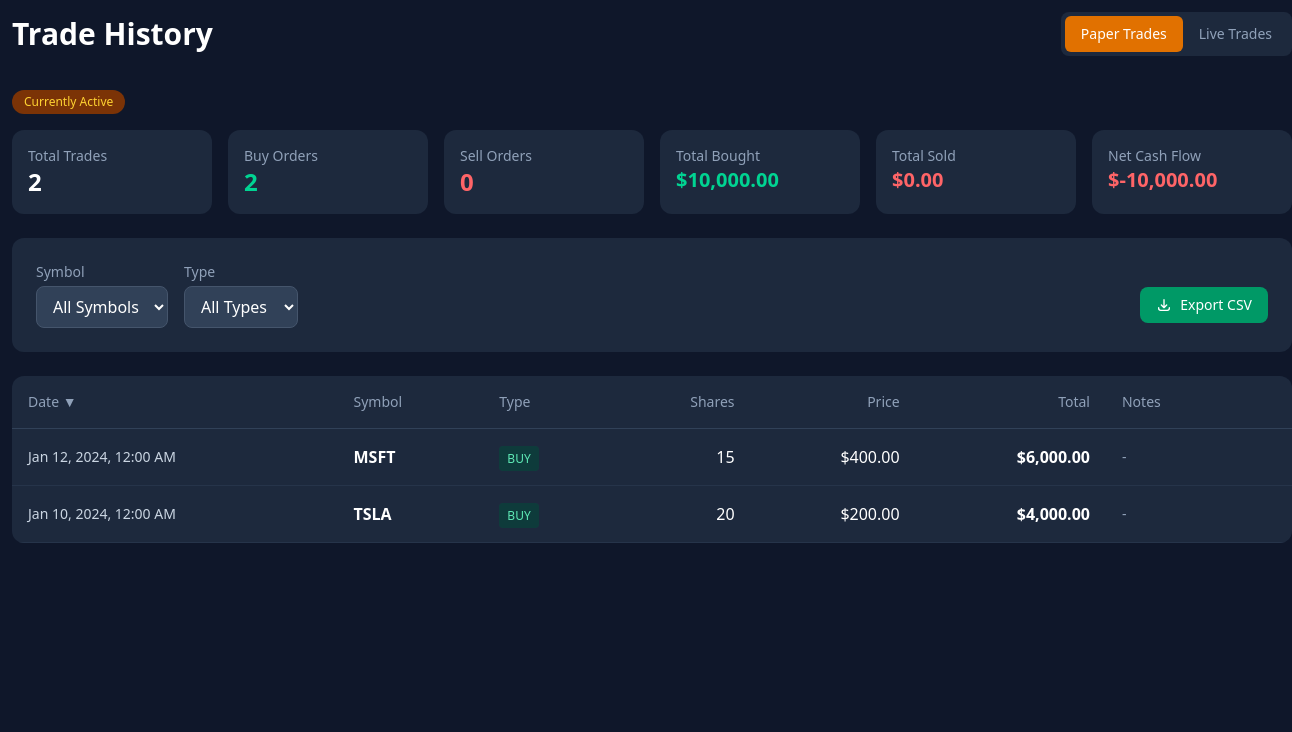
Test: TradeHistory › Empty states › should show live-specific empty message when no live trades
The image size is (1292, 732).
Note: Switch to live trades
Step 1. Click the button "Live Trades" → coordinates (1235, 34), box [1183,16,1288,52]
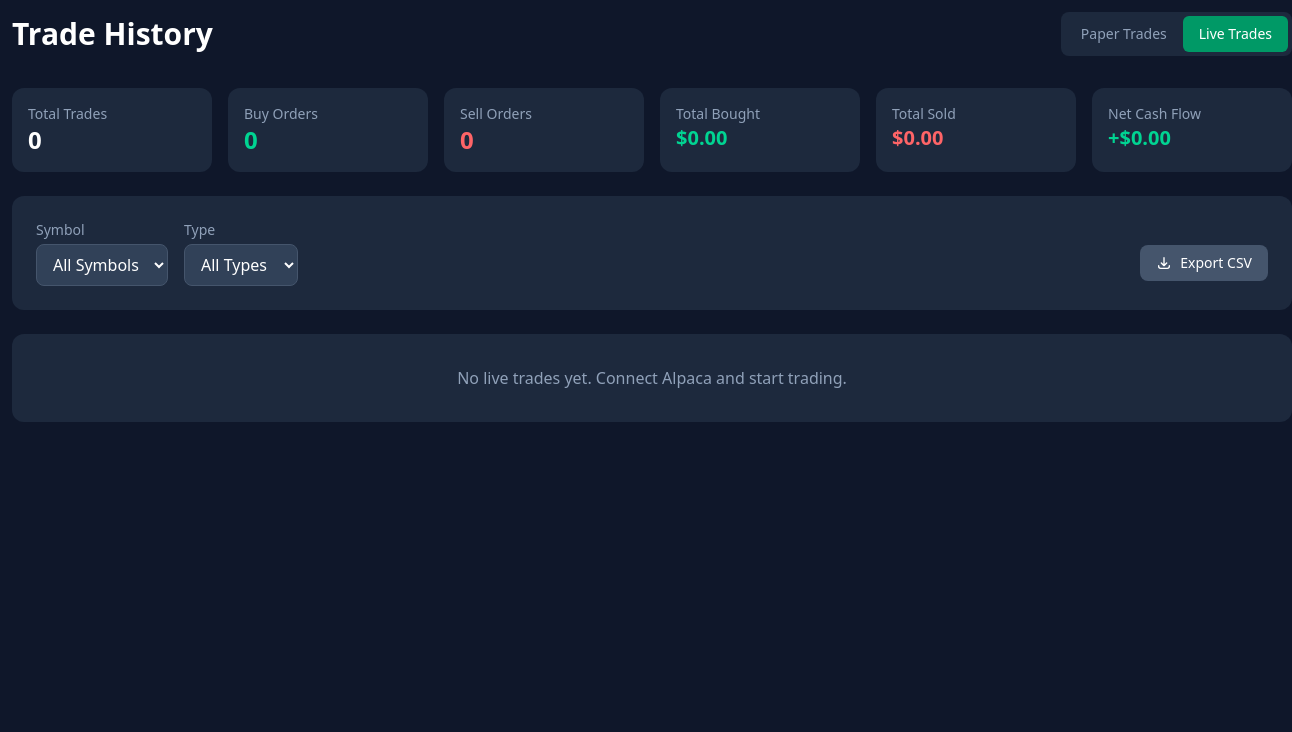
expect the text "No live trades yet. Connect Alpaca and start trading." is shown: met, box [457,367,847,389]
